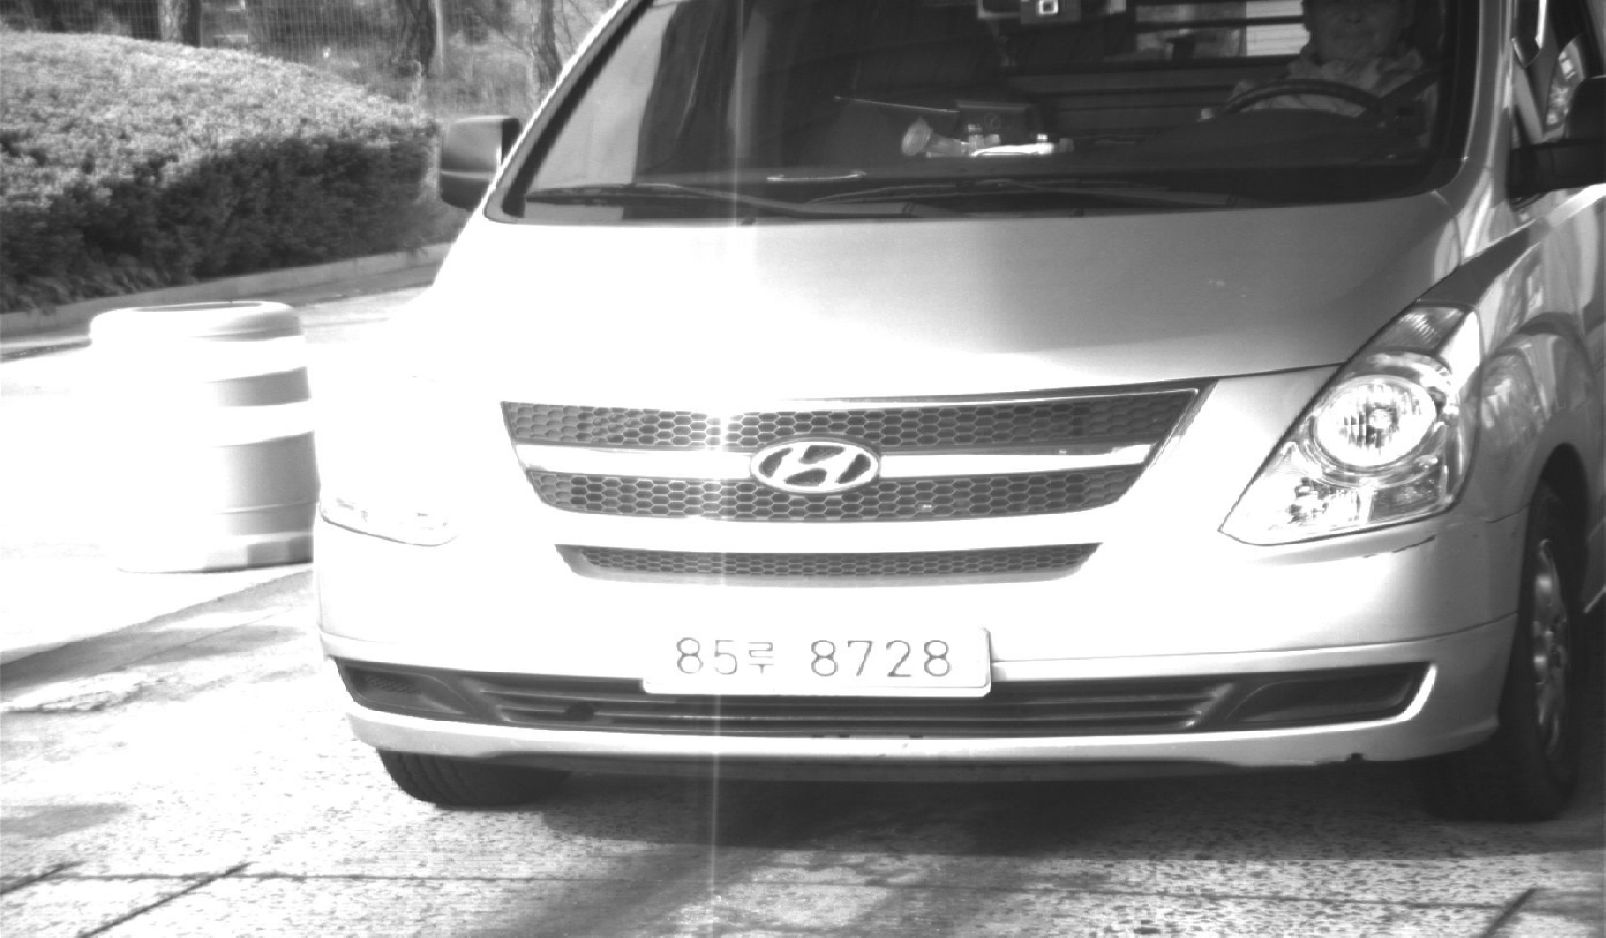car: (312, 1, 1603, 824)
plate: (633, 614, 995, 699)
